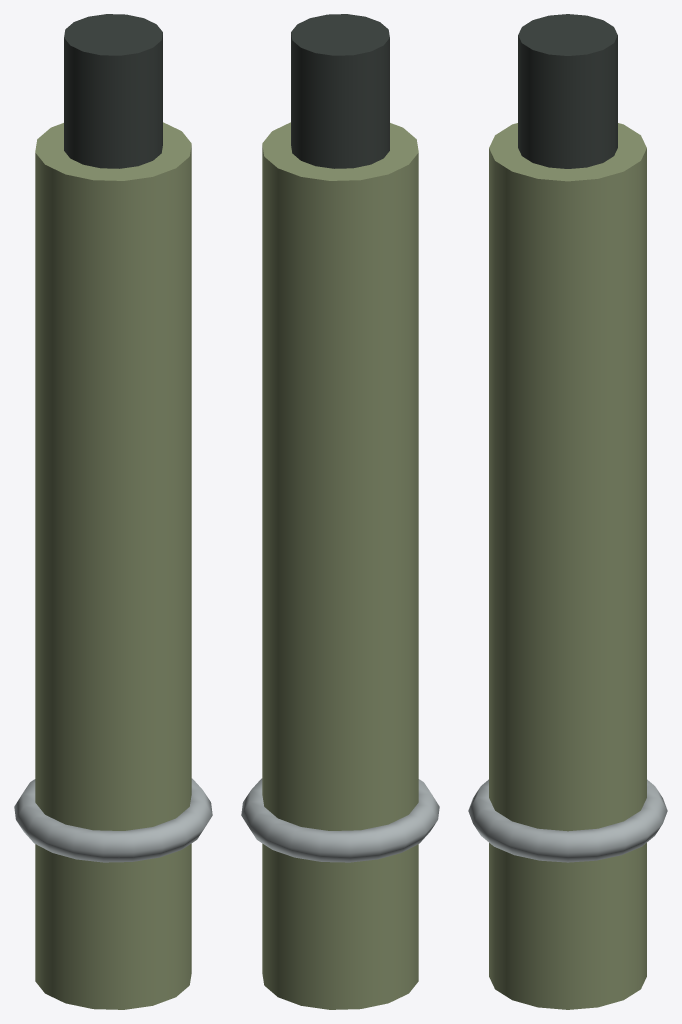
Rendered from water-collection-and-purification-portable-filter-stra-52c6e7df__20192.glb.
The picture shows the model from 3 angles, left to right: view 1: azimuth 30°, elevation 25°; view 2: azimuth 150°, elevation 25°; view 3: azimuth 270°, elevation 25°; orthographic projection.
Parts seen in each view (by area): view 1: portable-filter-straw; view 2: portable-filter-straw; view 3: portable-filter-straw.
Part boxes in pixels (bbox=[...]): portable-filter-straw: bbox=[14, 14, 212, 1009]; portable-filter-straw: bbox=[241, 14, 439, 1009]; portable-filter-straw: bbox=[468, 14, 667, 1009].
Size of the model in its own units: 0.048 by 0.25 by 0.048.
